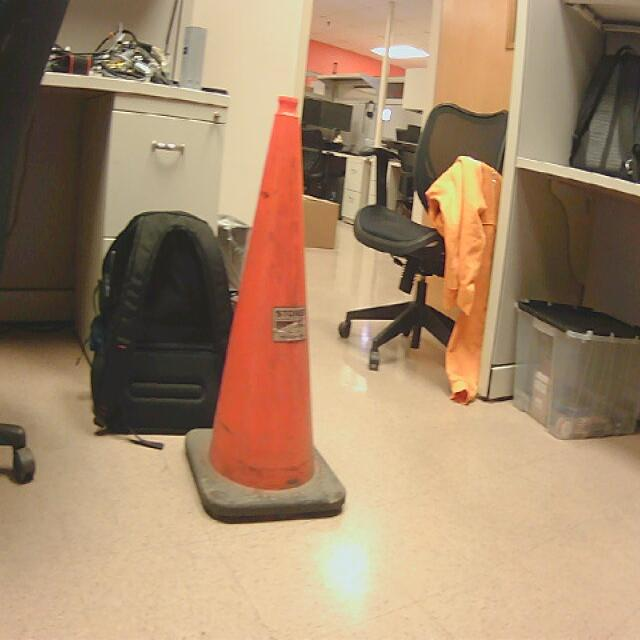traffic cone: (186, 96, 347, 528)
